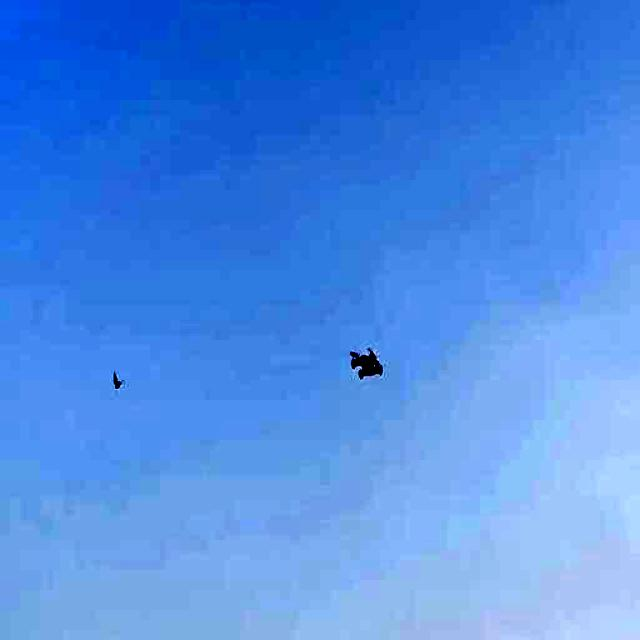airplane: (109, 366, 130, 396)
bird: (348, 341, 389, 386)
